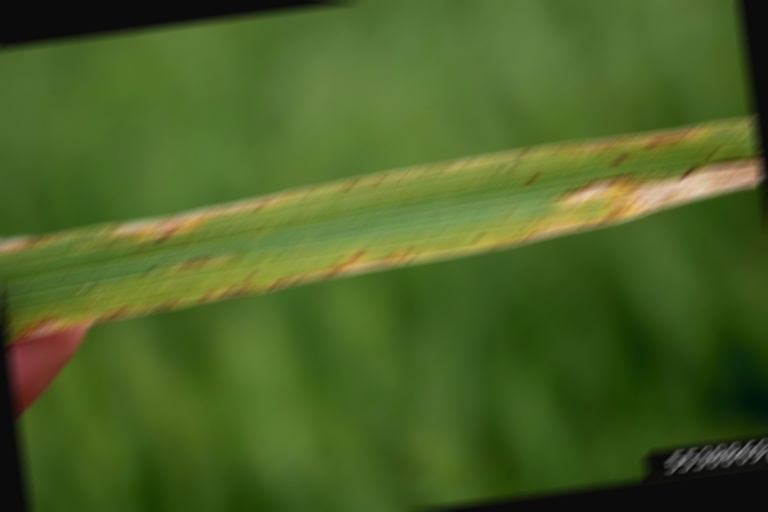Leaf_Blast: (0, 162, 752, 256)
